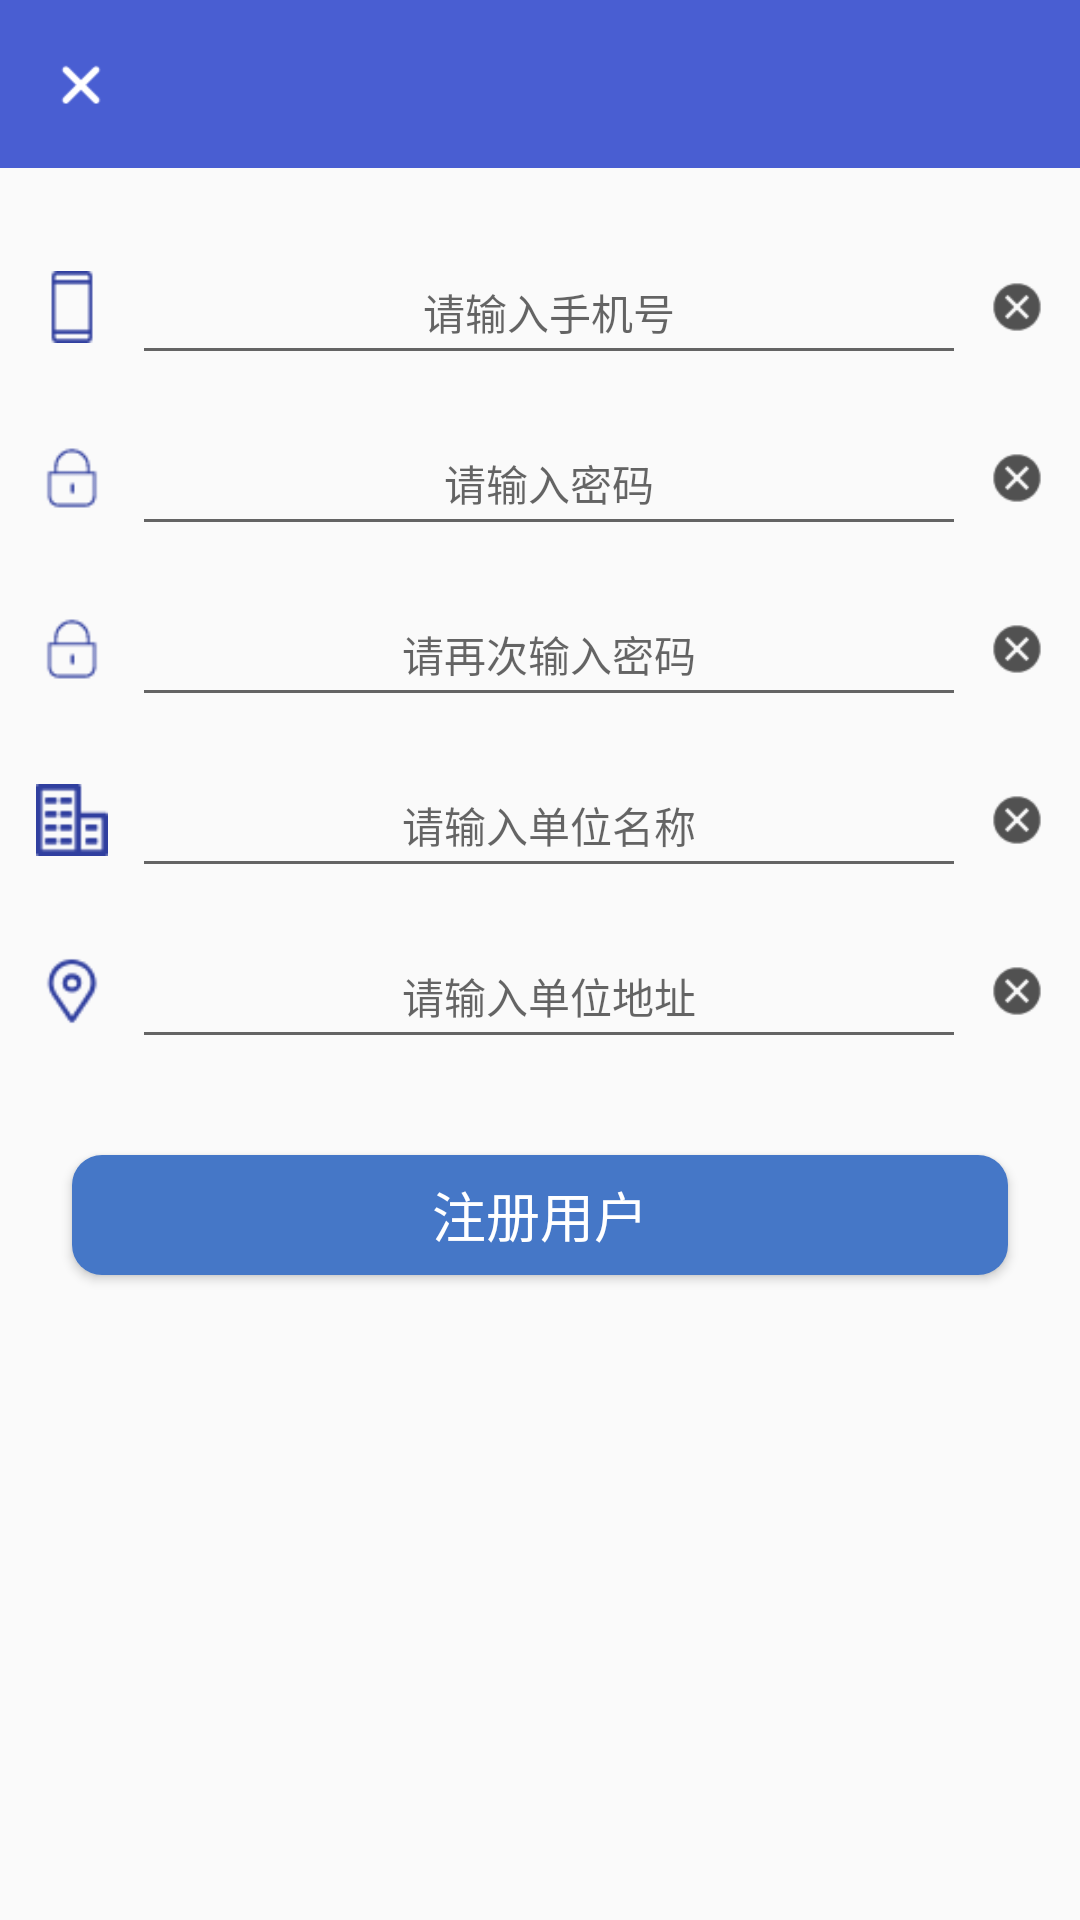

Point at icon controls on the screen. Image size 1080 x 1920, points as [x,y].
cancel: [81,85]
login clear: [1017,307], [1017,478], [1017,649], [1017,820], [1017,991]
login name: [72,307]
login pass: [72,478], [72,649]
register addr: [72,991]
register name: [72,820]
